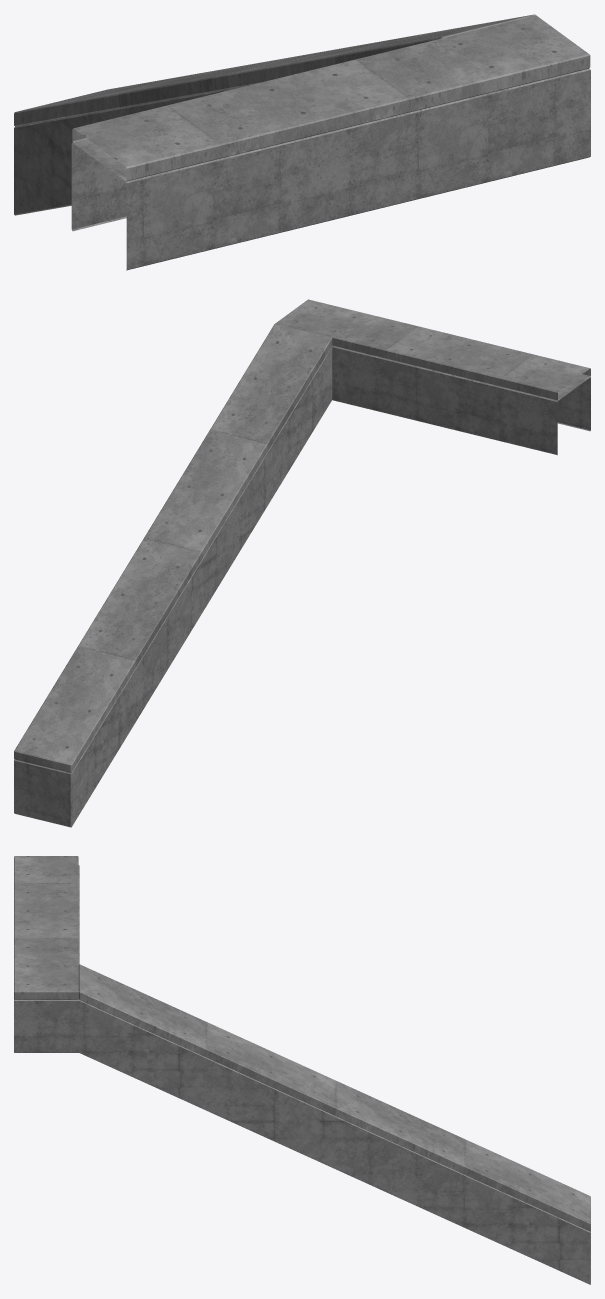
Rendered from SM_Steps_Wall_02.fbx.
3 renders of one model, top to bottom at view 1: azimuth 30°, elevation 25°; view 2: azimuth 150°, elevation 25°; view 3: azimuth 270°, elevation 25°, orthographic. The views are drawn at different scales.
Parts seen in each view (by area): view 1: SM_Steps_Wall_02; view 2: SM_Steps_Wall_02; view 3: SM_Steps_Wall_02.
Part boxes in pixels (left/top/right/bottom): SM_Steps_Wall_02: left=14, top=14, right=590, bottom=270; SM_Steps_Wall_02: left=14, top=299, right=590, bottom=827; SM_Steps_Wall_02: left=14, top=856, right=590, bottom=1284.
Size of the model in its own units: 501 by 507 by 902.
